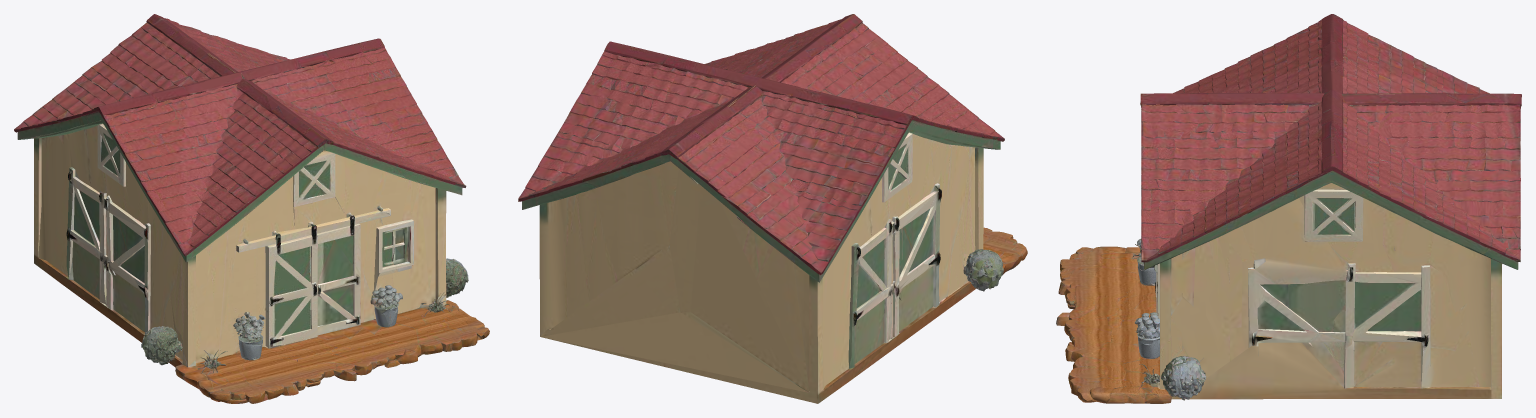
Rendered from barn.glb.
3 renders of one model, left to right at view 1: azimuth 30°, elevation 25°; view 2: azimuth 150°, elevation 25°; view 3: azimuth 270°, elevation 25°, orthographic. The views are drawn at different scales.
Size of the model in its own units: 1.67 by 1.08 by 1.9.
Materials: 1 (1 with a texture image).
